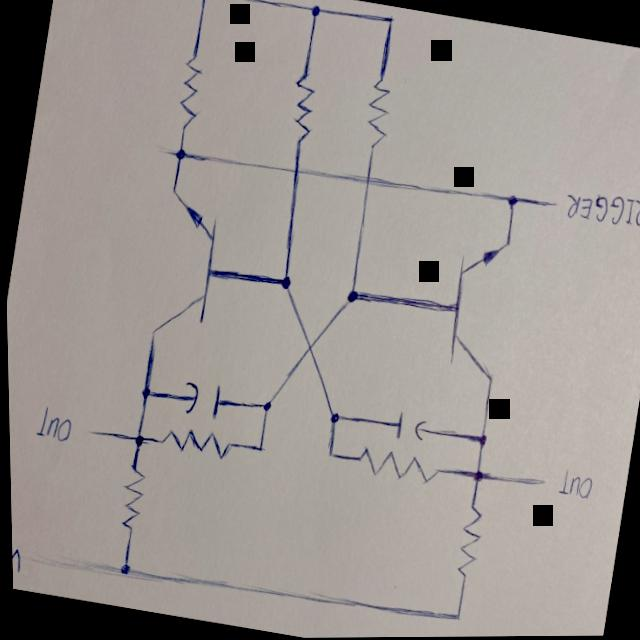capacitor: (172, 376, 225, 425), (379, 407, 430, 448)
crossover: (288, 332, 323, 365), (348, 162, 378, 194), (283, 155, 311, 188)
junction: (265, 264, 305, 307), (332, 278, 367, 313), (160, 138, 193, 170), (464, 425, 495, 457), (128, 376, 156, 406), (297, 0, 328, 26), (122, 424, 148, 454), (109, 554, 134, 585), (314, 438, 341, 466), (497, 187, 524, 215), (245, 435, 270, 462), (378, 10, 403, 35), (463, 464, 486, 491), (322, 408, 344, 433), (253, 395, 274, 419), (444, 606, 462, 626), (195, 0, 222, 13)
resistor: (351, 442, 443, 488), (169, 42, 214, 133), (279, 70, 324, 148), (154, 423, 237, 465), (356, 71, 397, 153), (448, 500, 484, 582), (110, 460, 147, 536)
terminal: (23, 544, 79, 577), (71, 417, 108, 448), (528, 473, 547, 493), (541, 196, 560, 214), (165, 0, 195, 4)
text: (561, 182, 640, 237), (26, 400, 74, 447), (552, 465, 594, 504), (9, 543, 23, 580)
transistor: (131, 185, 232, 345), (430, 225, 524, 389)
